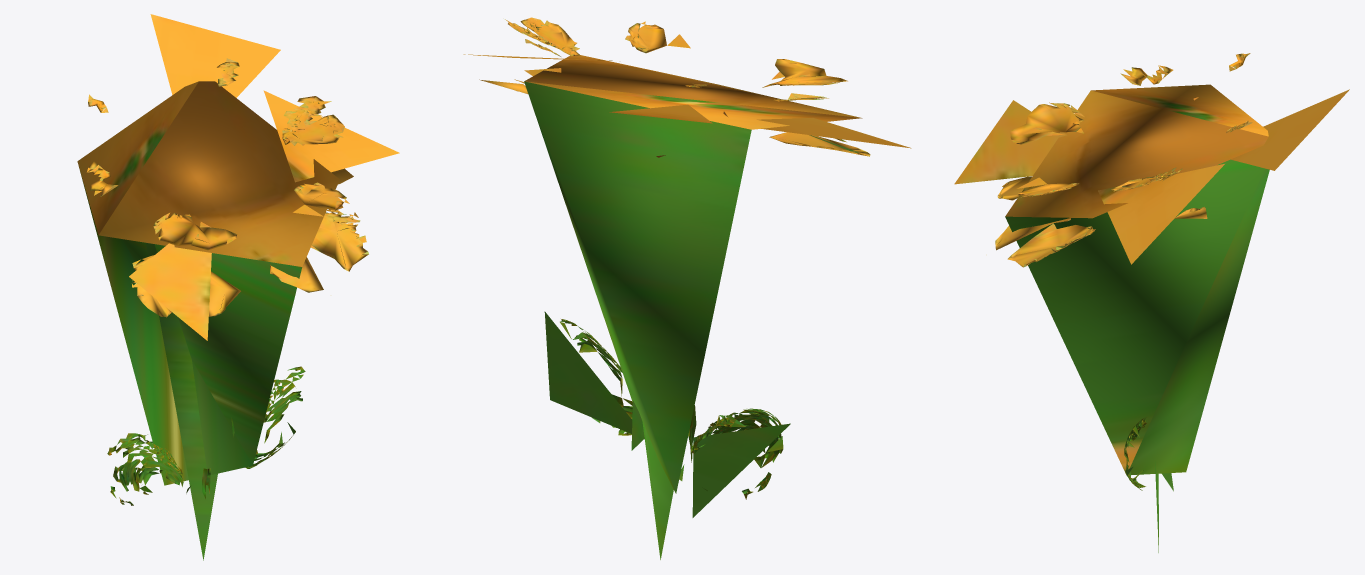
File: x-plant-giant-flower.glb
3 views of the same model, side by side, from view 1: azimuth 30°, elevation 25°; view 2: azimuth 150°, elevation 25°; view 3: azimuth 270°, elevation 25° (orthographic). The views are drawn at different scales.
Visible parts, largest first — view 1: geometry_0; view 2: geometry_0; view 3: geometry_0.
Part boxes in pixels (bbox=[...]): geometry_0: bbox=[77, 14, 399, 560]; geometry_0: bbox=[463, 17, 911, 559]; geometry_0: bbox=[954, 53, 1349, 552].
Size of the model in its own units: 0.8318 by 1 by 0.7486.
Materials: 1 (1 with a texture image).
